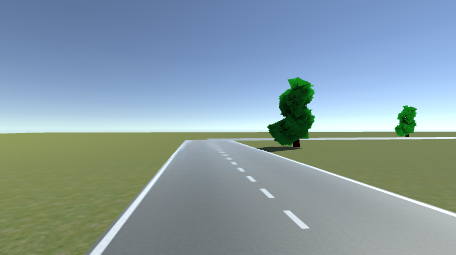tree: (271, 77, 317, 150), (396, 106, 419, 138)
